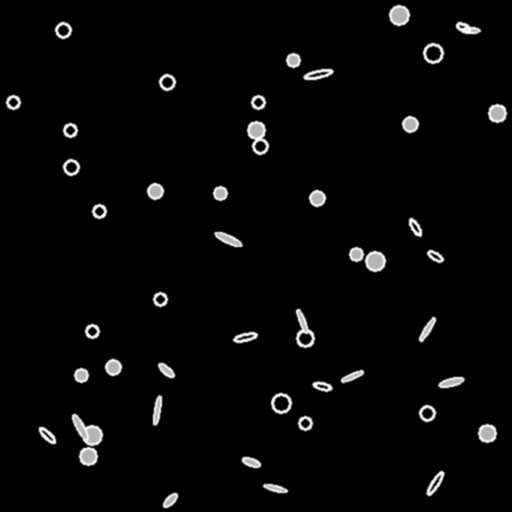pseudomonas: (425, 470, 445, 496), (71, 413, 89, 441), (214, 230, 242, 248), (418, 317, 436, 341), (37, 426, 57, 444), (304, 68, 332, 80), (295, 309, 309, 333), (407, 217, 423, 237), (438, 376, 464, 388), (341, 369, 363, 383), (152, 395, 162, 425), (157, 362, 175, 378), (162, 492, 178, 508), (426, 249, 444, 263), (312, 380, 332, 392), (241, 456, 261, 468), (233, 332, 257, 342), (264, 483, 286, 493), (455, 21, 471, 33), (460, 27, 480, 33)
synechocystis: (424, 44, 442, 62), (390, 6, 408, 24), (366, 252, 384, 270), (272, 394, 290, 412), (83, 426, 101, 444), (479, 425, 495, 441), (80, 448, 96, 464), (297, 330, 313, 346), (248, 122, 264, 138), (489, 105, 505, 121), (420, 406, 434, 420), (56, 23, 70, 37), (106, 360, 120, 374), (403, 117, 417, 131), (160, 75, 174, 89), (310, 191, 324, 205), (148, 184, 162, 198), (253, 139, 267, 153), (64, 160, 78, 174), (252, 96, 264, 108), (86, 325, 98, 337), (287, 54, 299, 66), (154, 293, 166, 305), (93, 205, 105, 217), (64, 124, 76, 136), (350, 248, 362, 260), (214, 187, 226, 199), (75, 369, 87, 381), (299, 417, 311, 429), (7, 96, 19, 108)
